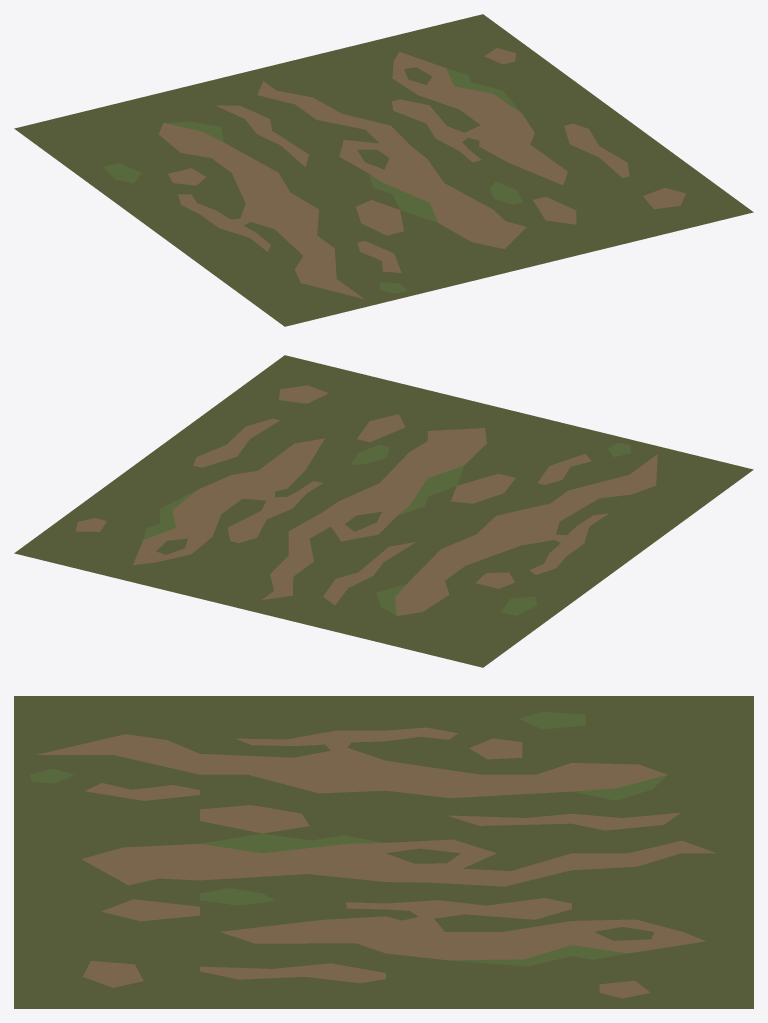
Rendered from ground_dirt_b.glb.
3 views of the same model, one above another, from view 1: azimuth 30°, elevation 25°; view 2: azimuth 150°, elevation 25°; view 3: azimuth 270°, elevation 25° (orthographic). The views are drawn at different scales.
Parts seen in each view (by area): view 1: SM_Env_FloorTile_04; view 2: SM_Env_FloorTile_04; view 3: SM_Env_FloorTile_04.
Part boxes in pixels (box(x1,y1,x2,y2)): SM_Env_FloorTile_04: box(14, 14, 753, 326); SM_Env_FloorTile_04: box(14, 355, 753, 667); SM_Env_FloorTile_04: box(14, 696, 753, 1008).
Size of the model in its own units: 300 by 1.02e-13 by 300.
1 material, 1 textured.
